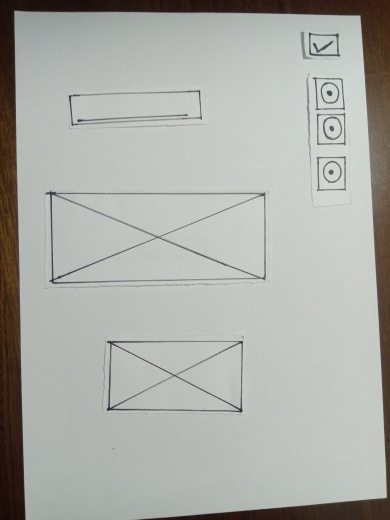checkbox: (310, 34, 343, 56)
img: (52, 190, 262, 282), (100, 338, 242, 421)
radio: (314, 79, 342, 109), (318, 158, 346, 188), (315, 112, 343, 142)
text: (69, 90, 197, 123)
